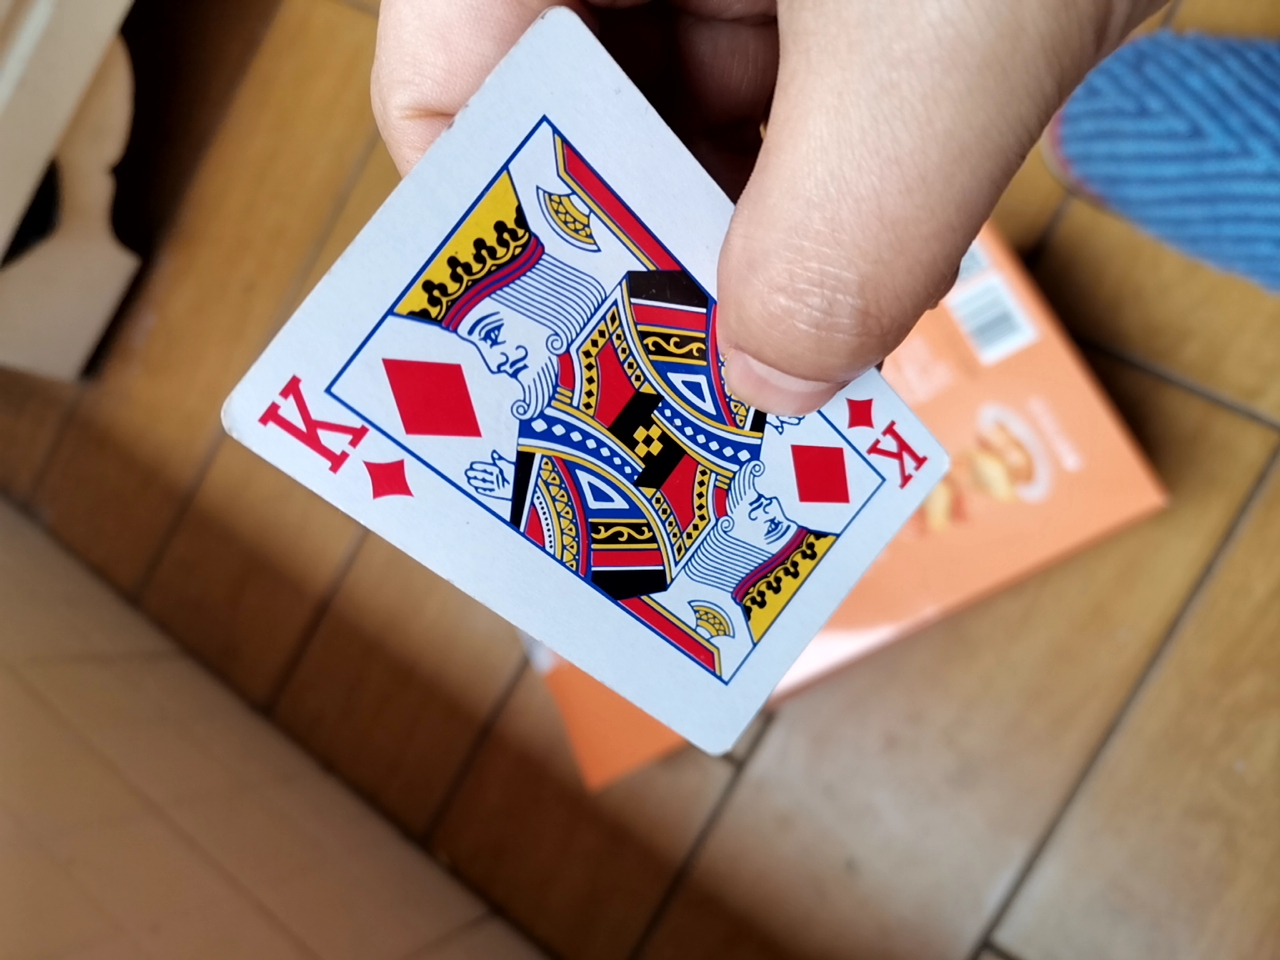fk k: (208, 10, 996, 779)
